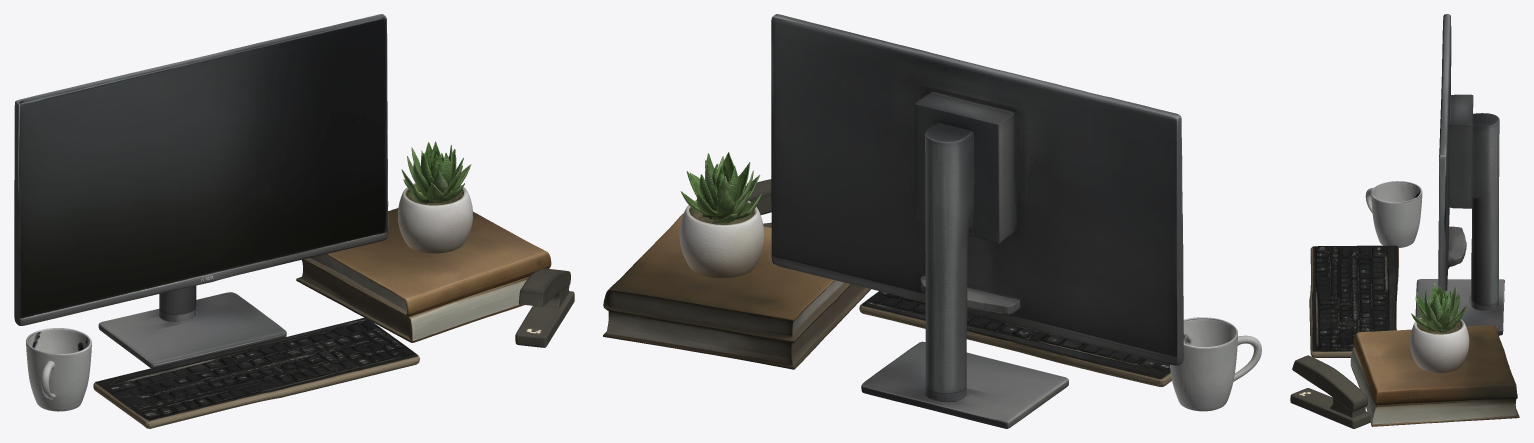
Rendered from phi-scene.glb.
3 views of the same model, side by side, from view 1: azimuth 30°, elevation 25°; view 2: azimuth 150°, elevation 25°; view 3: azimuth 270°, elevation 25° (orthographic). The views are drawn at different scales.
Parts seen in each view (by area): view 1: object_05, object_04, object_02, object_03, object_00, object_01; view 2: object_05, object_04, object_03, object_02, object_00, object_01; view 3: object_05, object_04, object_02, object_03, object_01, object_00.
Boxes of the visible parts, x1,y1,x2,y2 form: object_05: (14, 14, 388, 367); object_04: (296, 208, 551, 342); object_02: (93, 317, 419, 428); object_03: (398, 141, 472, 253); object_00: (26, 328, 91, 411); object_01: (515, 268, 574, 347); object_05: (771, 14, 1183, 428); object_04: (603, 213, 870, 369); object_03: (679, 152, 764, 278); object_02: (859, 291, 1171, 386); object_00: (1170, 317, 1261, 411); object_01: (745, 179, 771, 227); object_05: (1415, 14, 1504, 335); object_04: (1350, 325, 1519, 426); object_02: (1309, 245, 1398, 357); object_03: (1410, 283, 1469, 372); object_01: (1290, 355, 1371, 428); object_00: (1365, 181, 1422, 247).
Bounding box in the file's own units: 1.04 × 0.5382 × 0.4959.
Materials: 6 (6 with a texture image).
